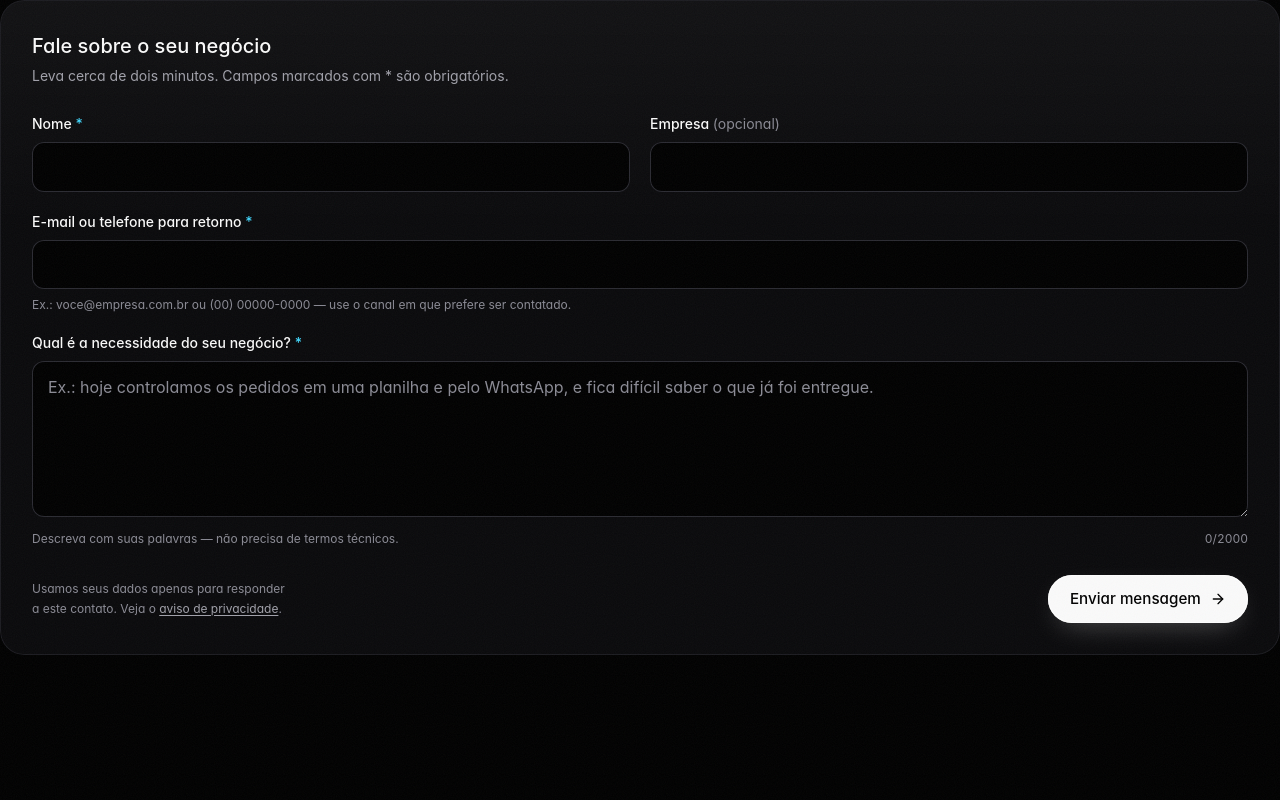
ContactForm › trata falha de rede e limite de tentativas
Type "Maria Souza" into the field labelled "Nome *".
click(331, 167); type("Maria Souza")  # box [32,142,630,192]
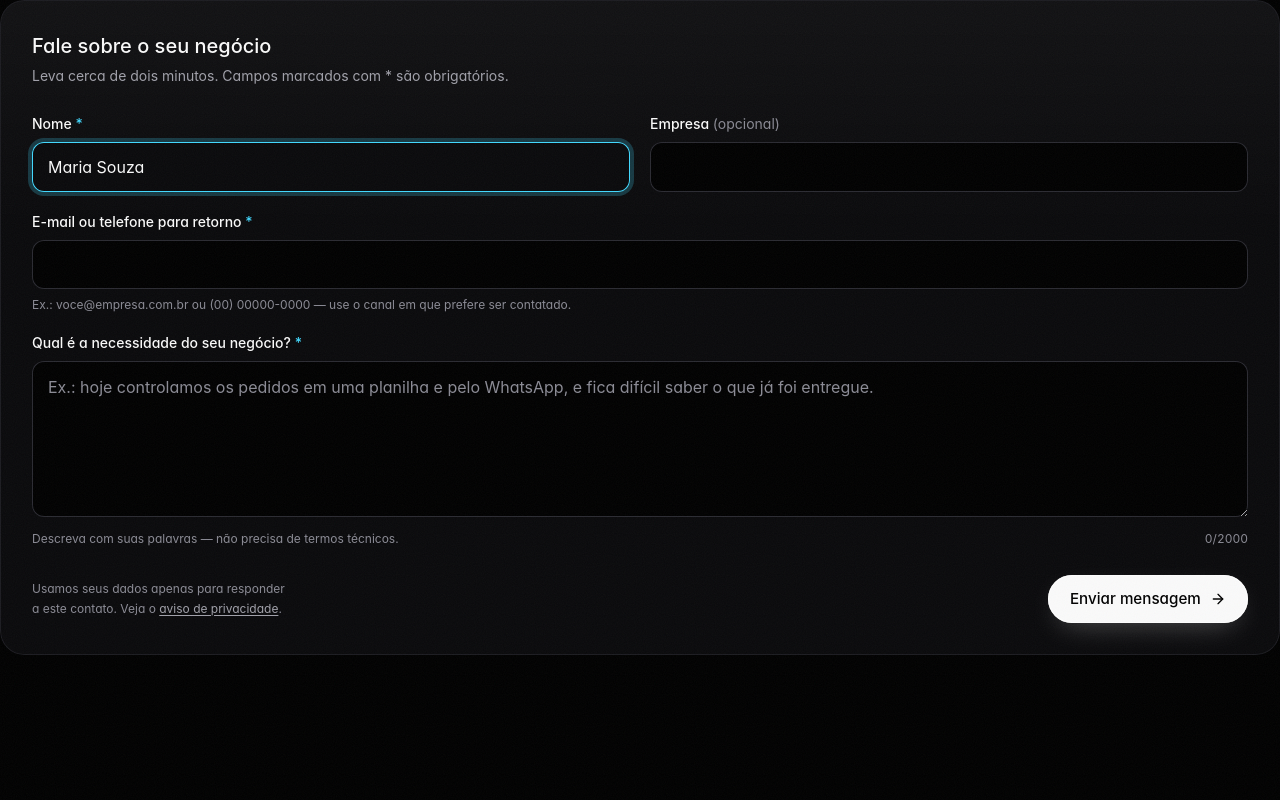
Type "maria@exemplo.com" into the field labelled "E-mail ou telefone para retorno *".
click(640, 264); type("maria@exemplo.com")  # box [32,240,1248,289]
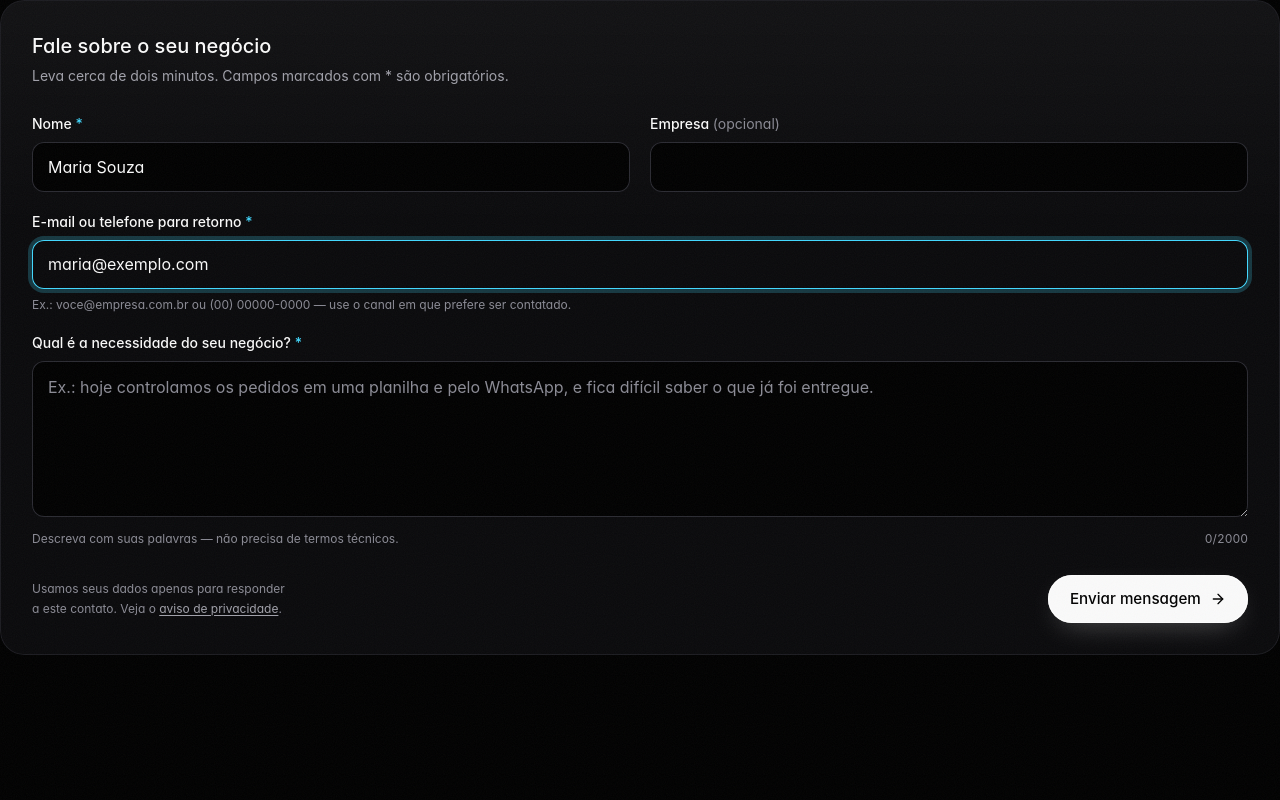
Type "Quero organizar os pedidos que hoje ficam no caderno." into the text box labelled "Qual é a necessidade do seu negócio? *".
click(640, 439); type("Quero organizar os pedidos que hoje ficam no caderno.")  # box [32,361,1248,517]
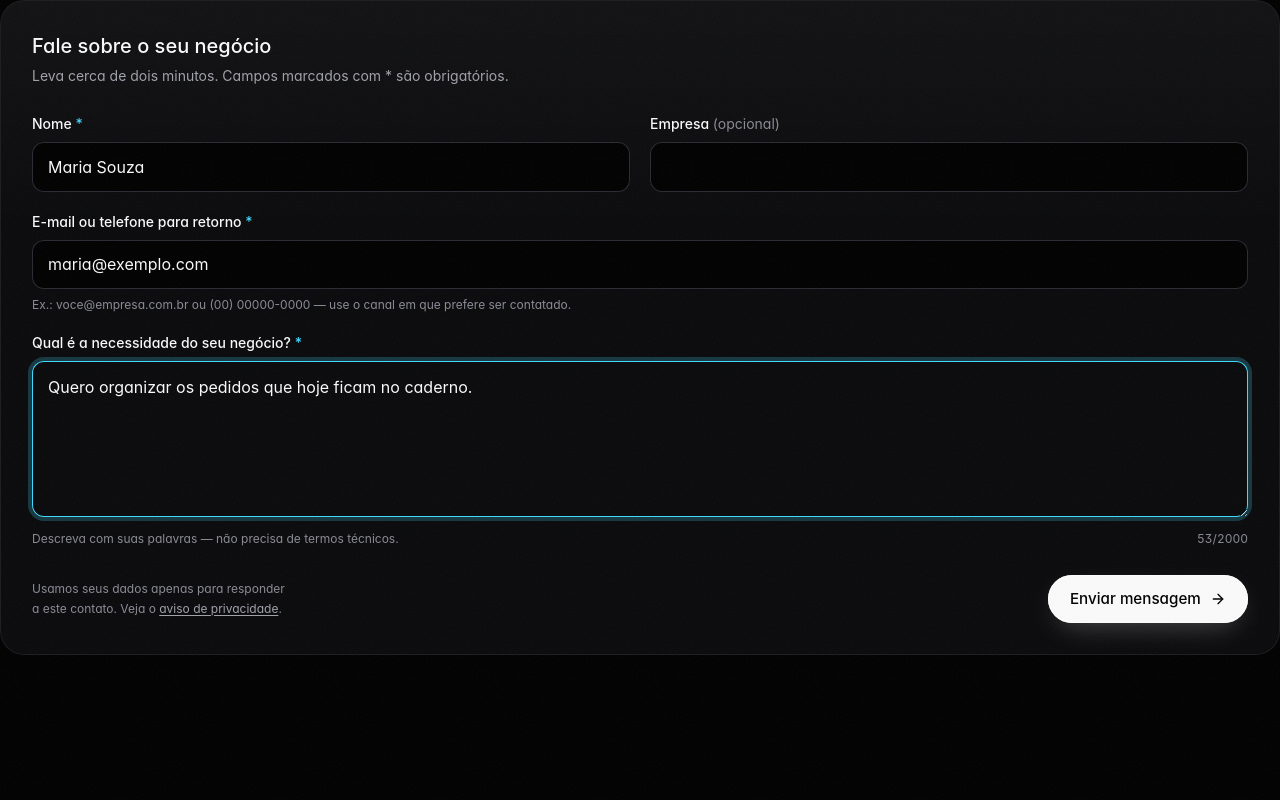
Click the button "Enviar mensagem".
click(1148, 599)  # box [1048,575,1248,623]
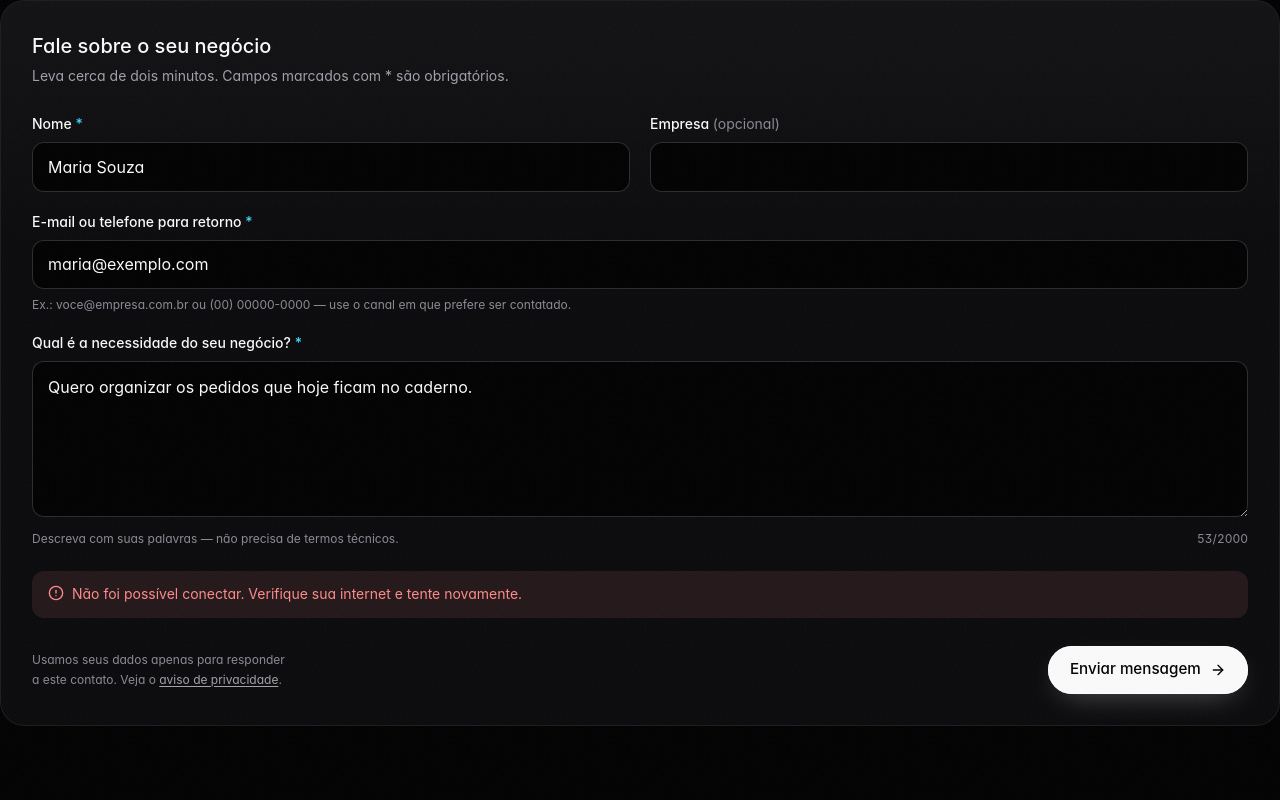
Result: the message shows "Verifique sua internet" at [72,585,522,602]
Click the button "Enviar mensagem".
click(1148, 670)  # box [1048,646,1248,694]
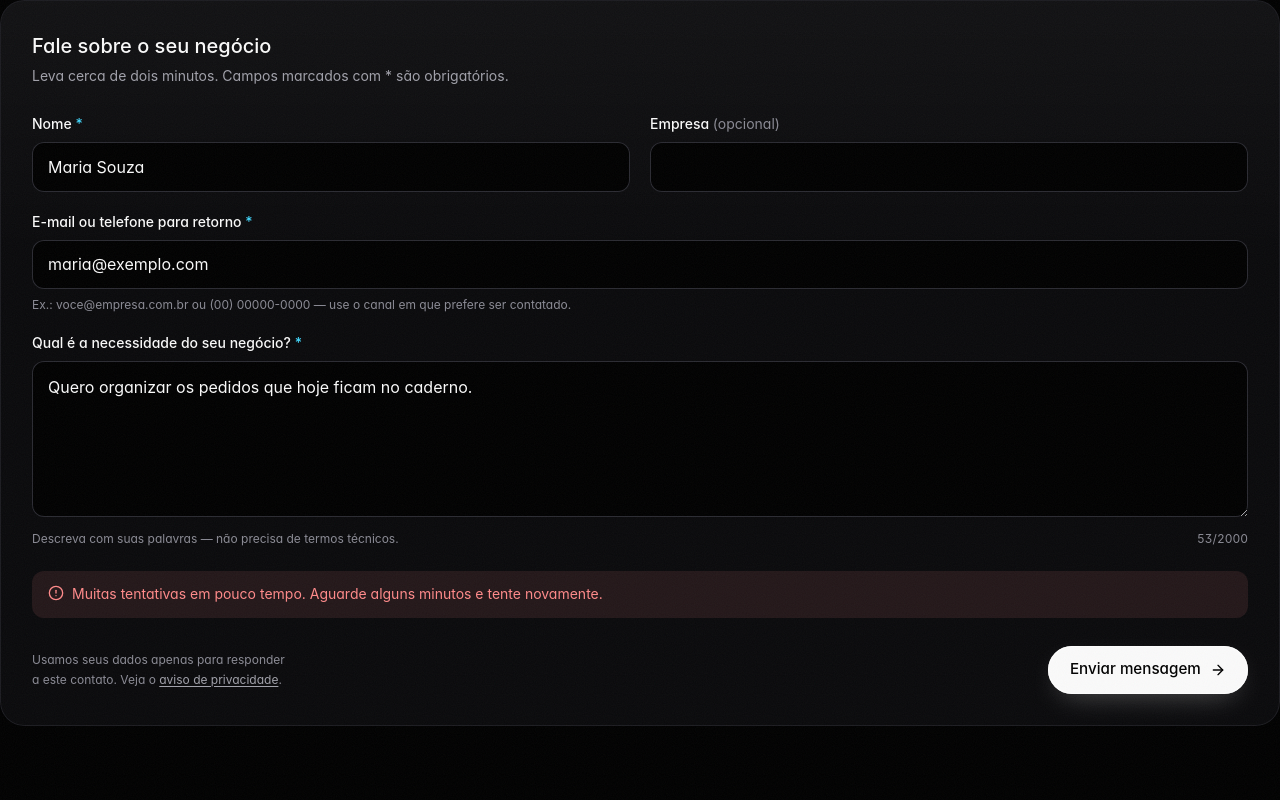
Result: the message shows "Muitas tentativas" at [72,585,603,602]
